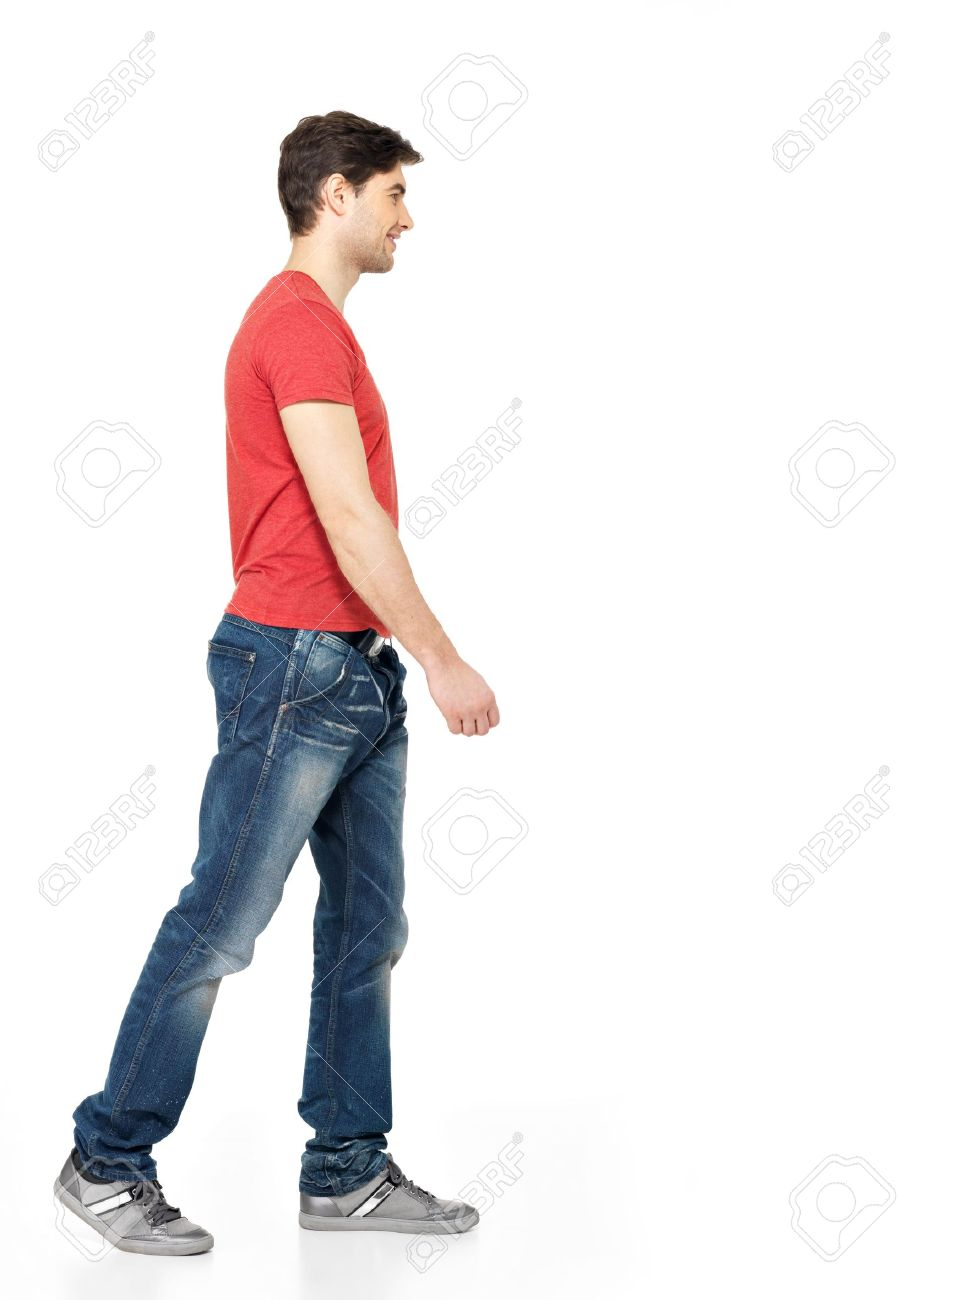Person: (48, 107, 509, 1260)
